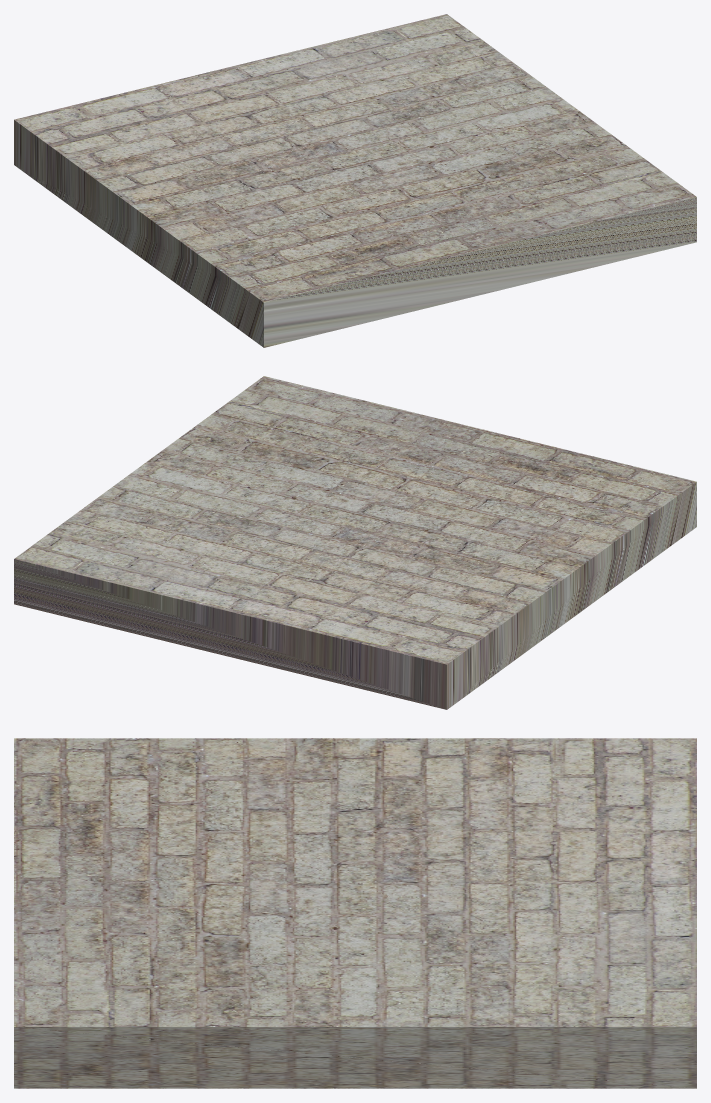
File: BrickWall.dae
3 views of the same model, one above another, from view 1: azimuth 30°, elevation 25°; view 2: azimuth 150°, elevation 25°; view 3: azimuth 270°, elevation 25° (orthographic). The views are drawn at different scales.
Parts seen in each view (by area): view 1: node; view 2: node; view 3: node.
Part boxes in pixels (x1,y1,x2,y2): node: (14,14,696,347); node: (14,376,696,709); node: (14,738,696,1088).
Size of the model in its own units: 2 by 0.2 by 2.
1 material, 1 textured.
